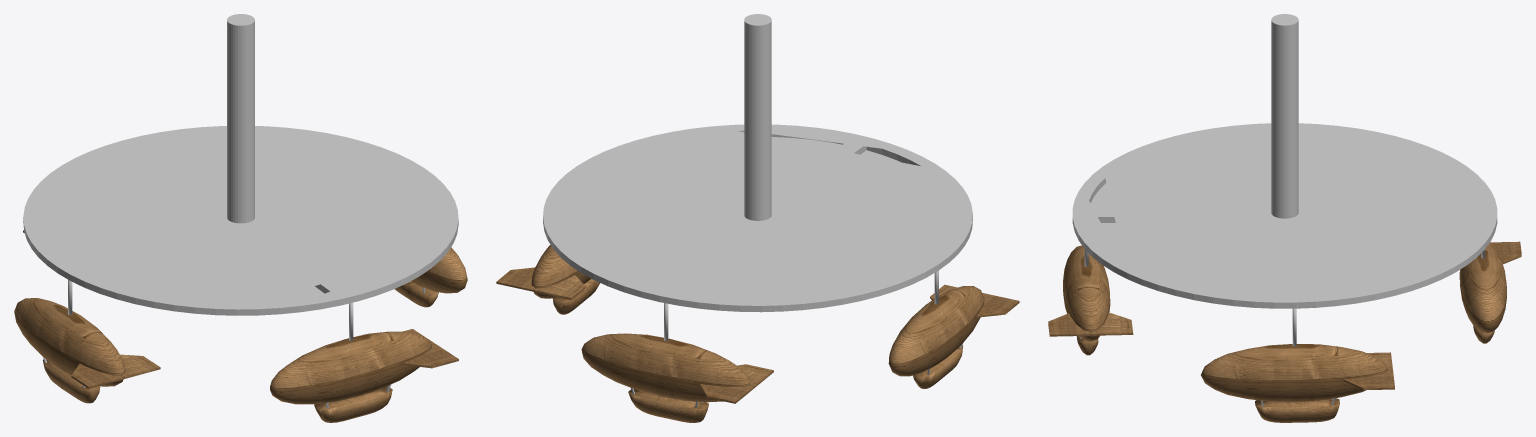
File: déco.fbx
3 views of the same model, side by side, from view 1: azimuth 30°, elevation 25°; view 2: azimuth 150°, elevation 25°; view 3: azimuth 270°, elevation 25° (orthographic). The views are drawn at different scales.
Visible parts, largest first — view 1: Circle; view 2: Circle; view 3: Circle.
Boxes of the visible parts, box(x1,y1,x2,y2) form: Circle: box(14, 14, 467, 422); Circle: box(496, 14, 1019, 422); Circle: box(1048, 14, 1521, 422).
Size of the model in its own units: 102 by 75.36 by 102.
